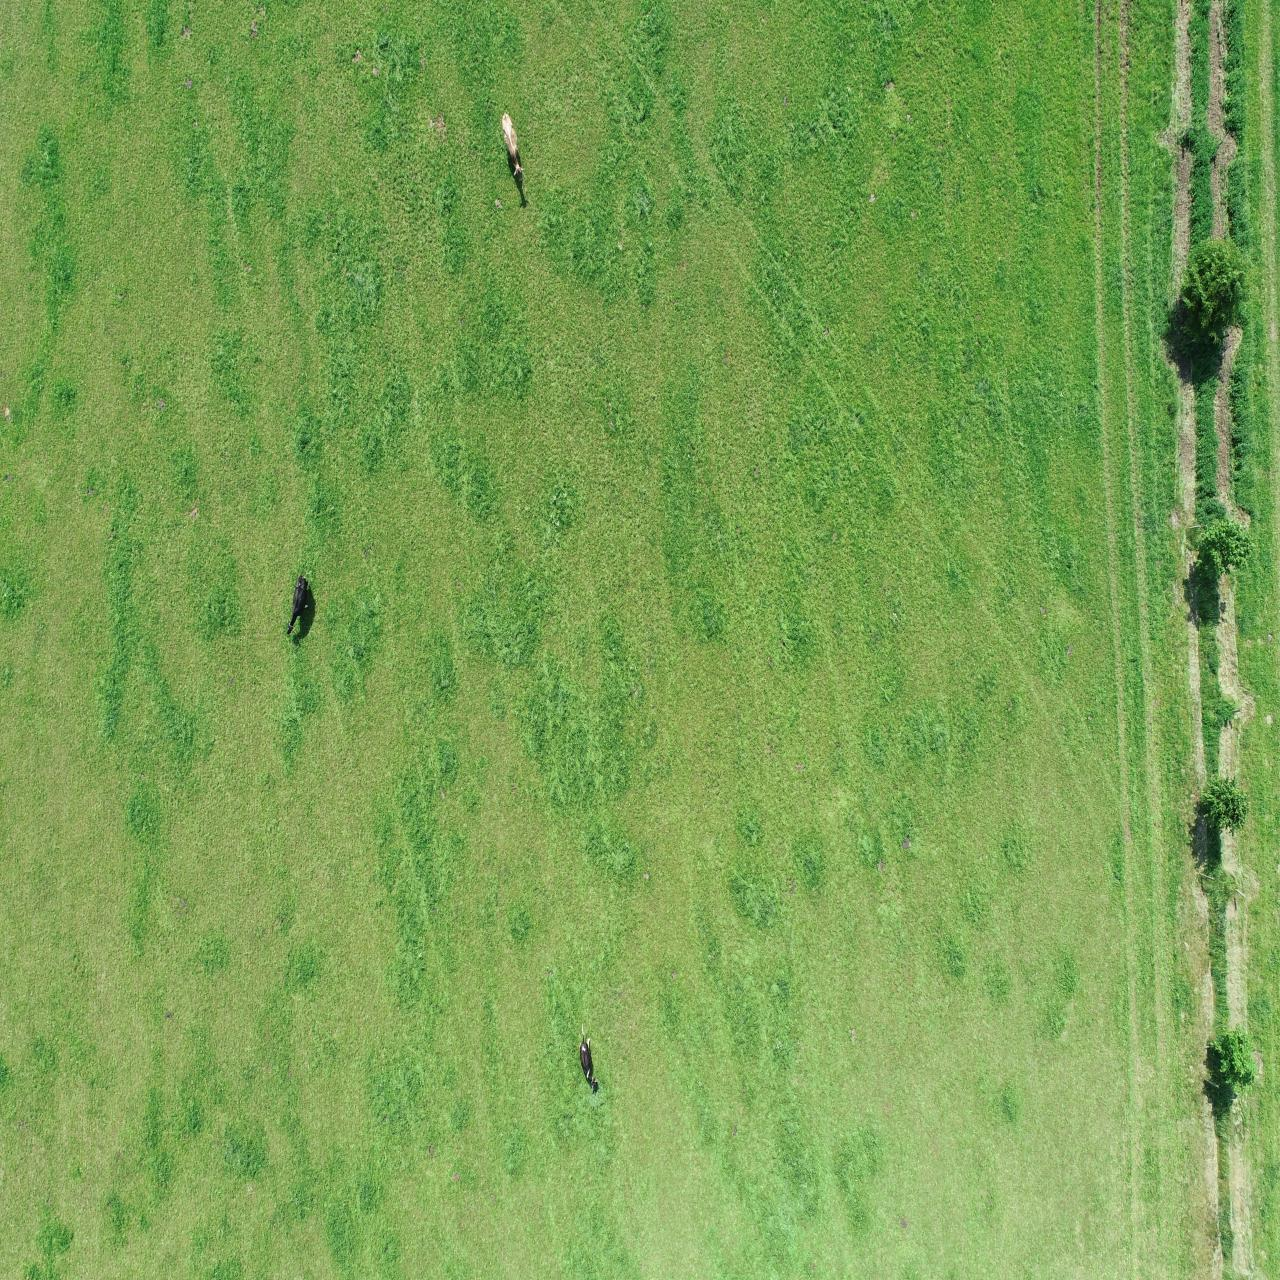cow: (282, 571, 315, 647), (499, 110, 529, 188), (574, 1020, 604, 1094)
